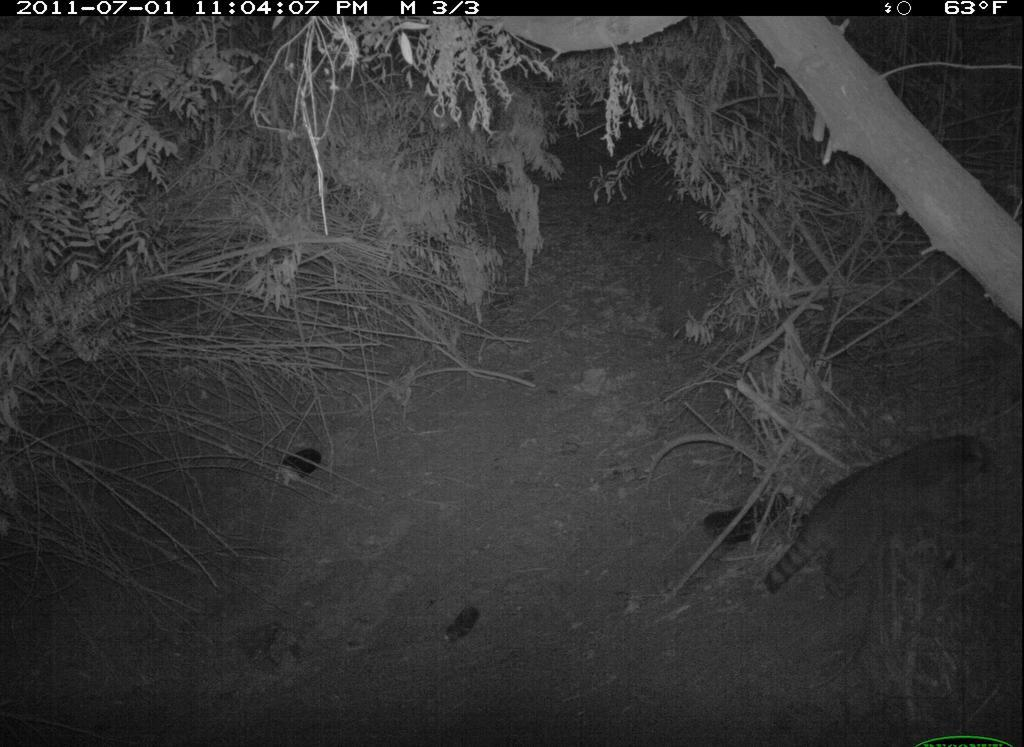raccoon: (747, 427, 1003, 601)
